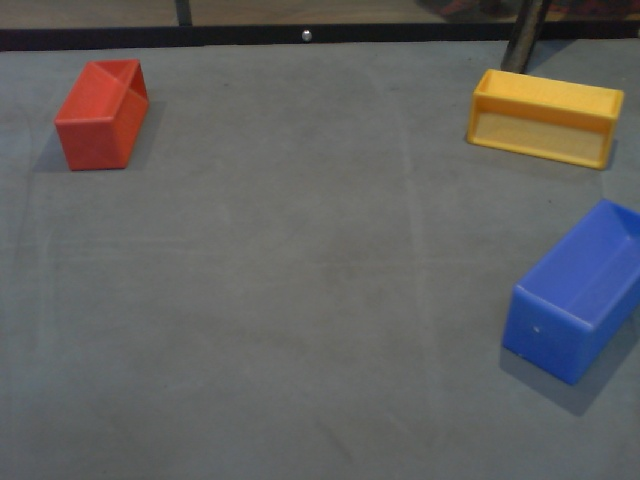BlueSample: (499, 193, 640, 386)
RedSample: (50, 56, 153, 178)
YellowSample: (461, 63, 629, 175)
